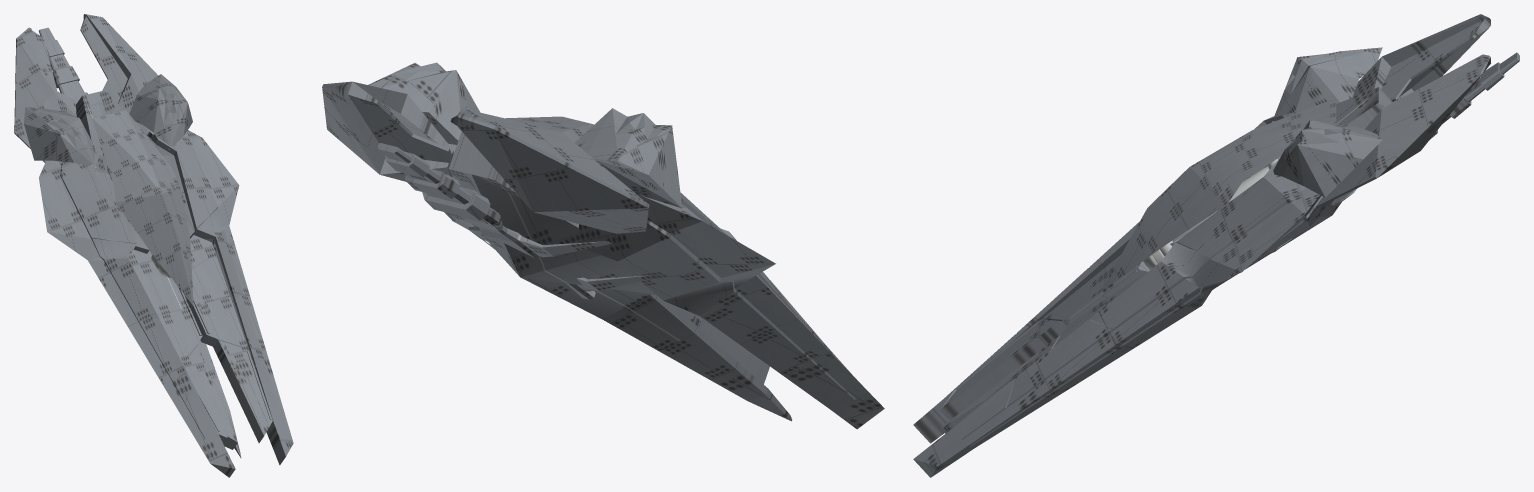
Rendered from wingweak_open.fbx.
3 renders of one model, left to right at view 1: azimuth 30°, elevation 25°; view 2: azimuth 150°, elevation 25°; view 3: azimuth 270°, elevation 25°, orthographic. The views are drawn at different scales.
Visible parts, largest first — view 1: polySurface3256, polySurface3234; view 2: polySurface3256, polySurface3234; view 3: polySurface3256, polySurface3234.
Boxes of the visible parts, left/top/right/bottom form: polySurface3256: left=14, top=14, right=293, bottom=477; polySurface3234: left=92, top=110, right=193, bottom=305; polySurface3256: left=322, top=62, right=884, bottom=429; polySurface3234: left=505, top=116, right=593, bottom=142; polySurface3256: left=913, top=14, right=1519, bottom=477; polySurface3234: left=1101, top=98, right=1336, bottom=290.
Bounding box in the file's own units: 3.97 × 6.03 × 7.77.
Materials: 2 (2 with a texture image).
